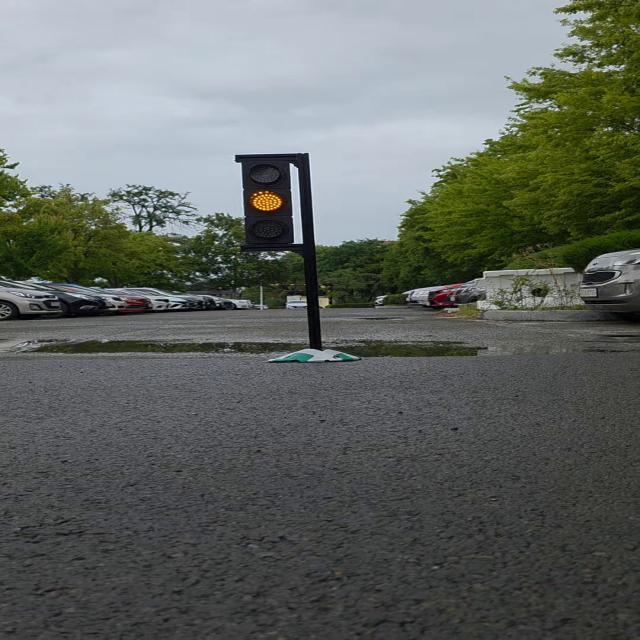yellow: (237, 154, 305, 250)
